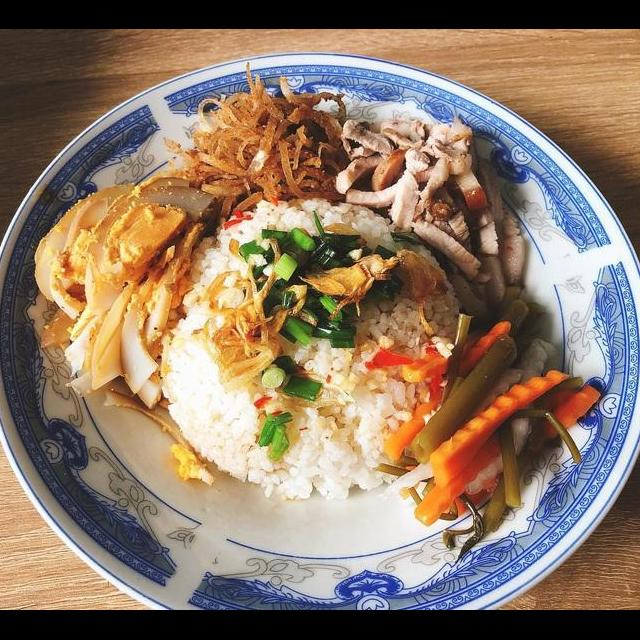bi: (163, 58, 353, 220)
com: (158, 196, 467, 502)
com suon bi trung: (12, 81, 640, 586)
dua chua: (380, 308, 602, 560)
suon: (334, 110, 531, 306)
trung: (29, 172, 221, 414)
